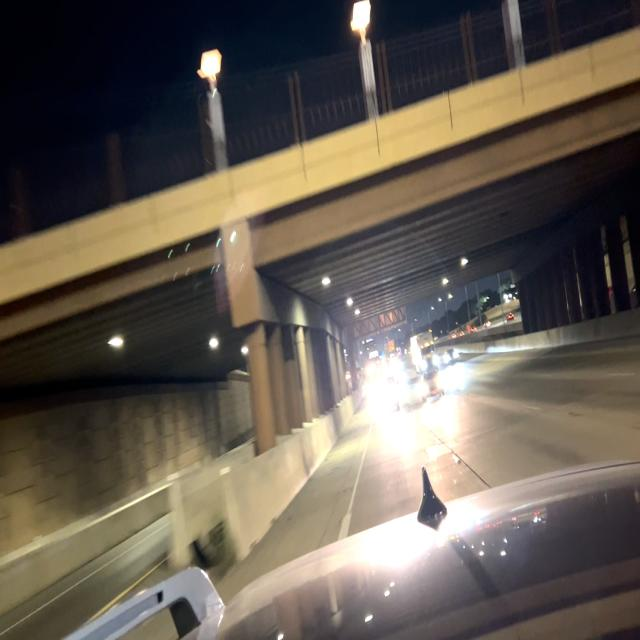back-of-sign: (350, 305, 408, 340)
